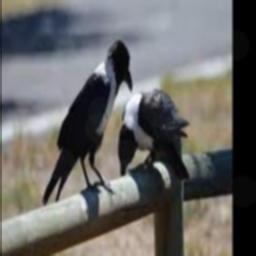Crow: (43, 41, 133, 210), (119, 88, 189, 177)
